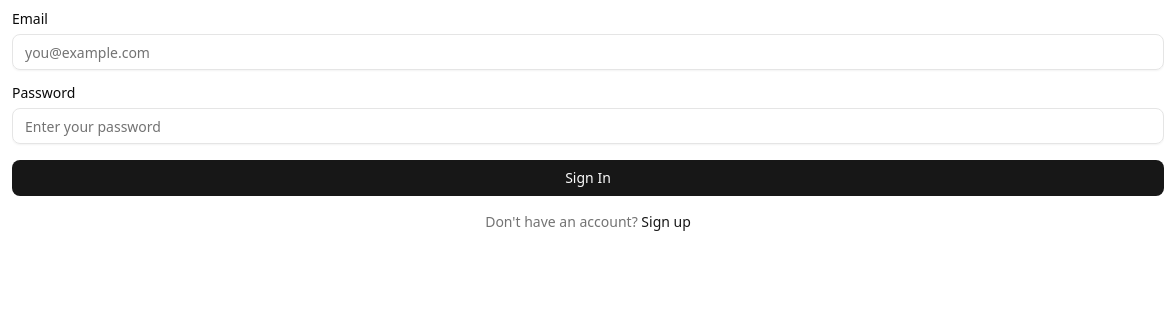
LoginForm › failure cases › displays sanitized network error message
Type "test@example.com" into the field labelled "Email" at (588, 52), box [12,34,1164,70]
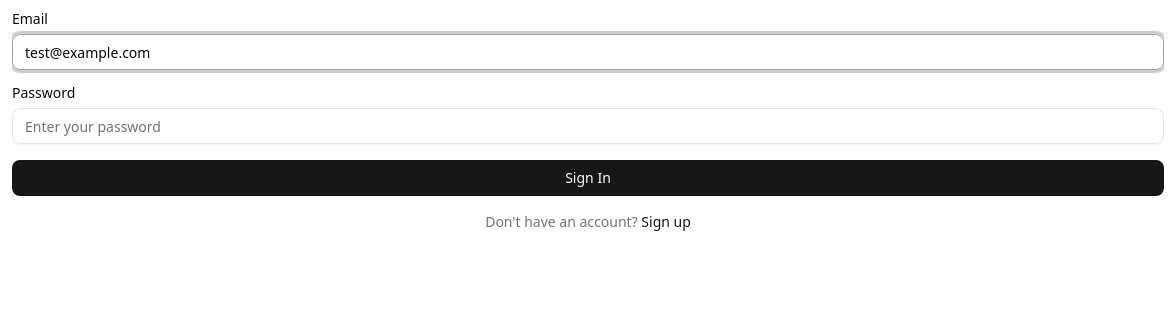
Type "password123" into the password field labelled "Password" at (588, 126), box [12,108,1164,144]
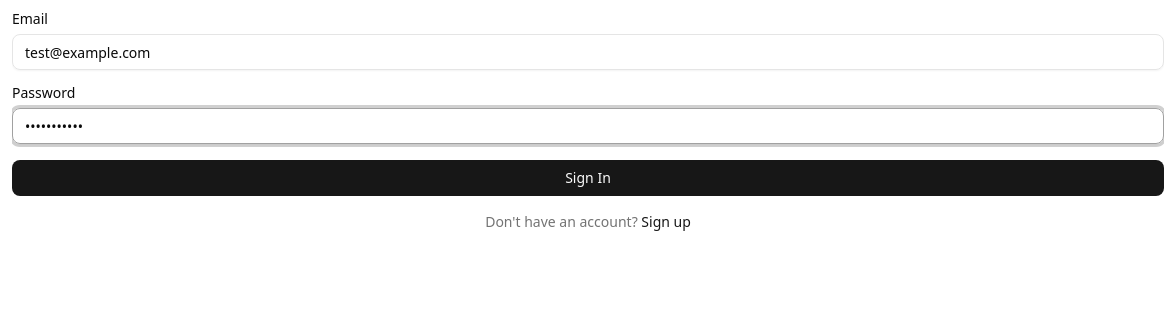
Click the button "Sign In" at (588, 178), box [12,160,1164,196]
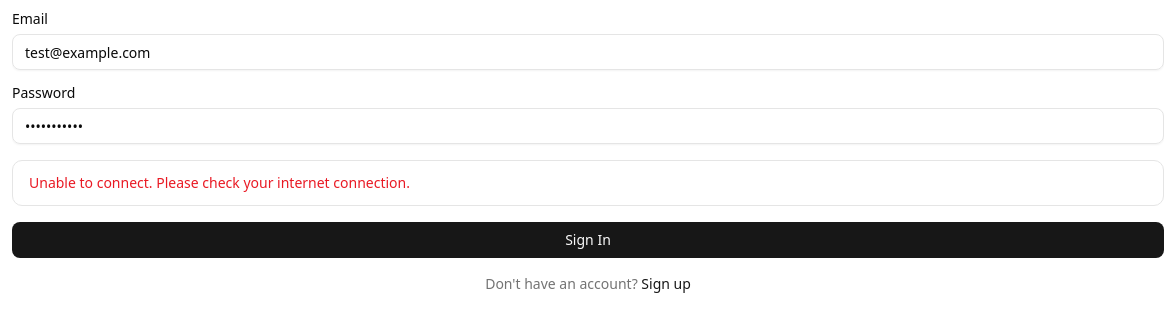
Now the text "Unable to connect. Please check your internet connection." is shown, box [29,173,410,192]
